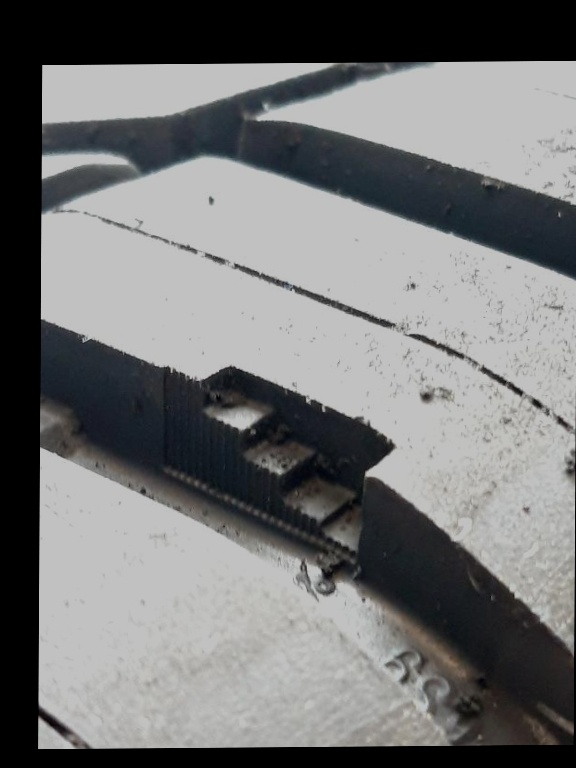temoin:95: (152, 346, 407, 585)
